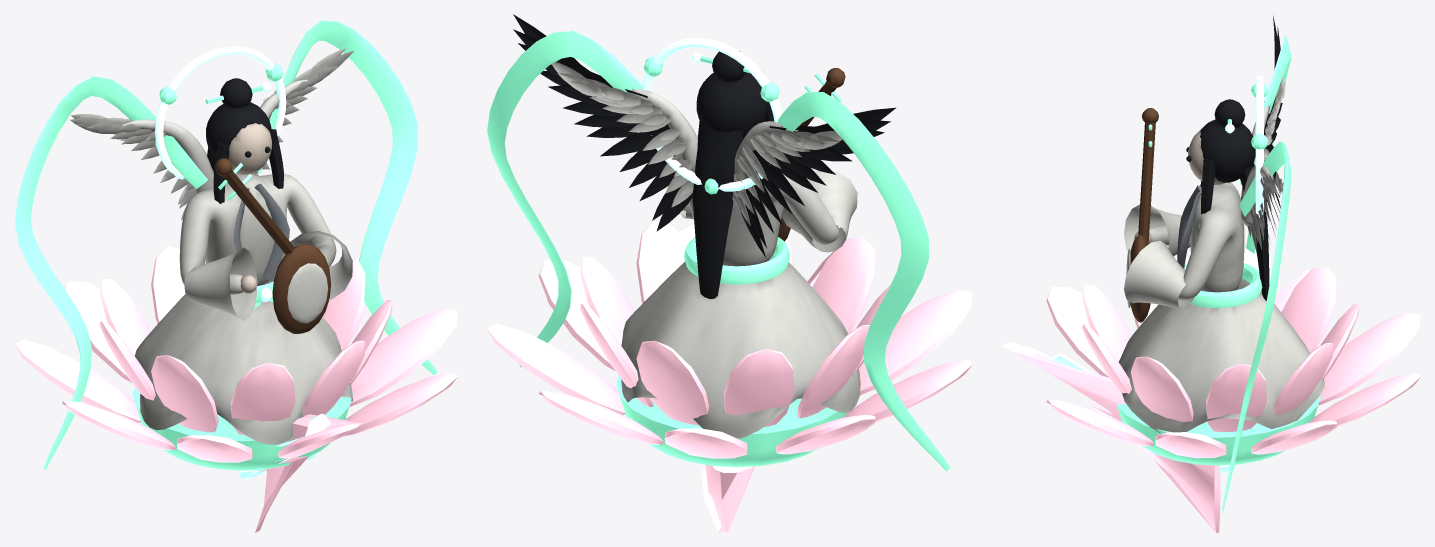
Rendered from ink_lotus.glb.
3 views of the same model, side by side, from view 1: azimuth 30°, elevation 25°; view 2: azimuth 150°, elevation 25°; view 3: azimuth 270°, elevation 25° (orthographic). The views are drawn at different scales.
Parts seen in each view (by area): view 1: body, wing_L_a, spin_z_halo, wing_R_a; view 2: body, wing_R_a, wing_L_a, spin_z_halo; view 3: body, wing_R_a, spin_z_halo, wing_L_a.
Boxes of the visible parts, x1,y1,x2,y2 form: body: [14, 20, 457, 532]; wing_L_a: [70, 114, 213, 219]; spin_z_halo: [155, 46, 286, 179]; wing_R_a: [252, 48, 354, 175]; body: [486, 31, 972, 532]; wing_R_a: [513, 14, 697, 231]; wing_L_a: [732, 107, 896, 257]; spin_z_halo: [642, 38, 782, 194]; body: [1001, 35, 1420, 532]; wing_R_a: [1240, 165, 1283, 251]; spin_z_halo: [1251, 75, 1268, 217]; wing_L_a: [1240, 14, 1285, 201].
Size of the model in its own units: 1.77 by 1.97 by 1.69.
